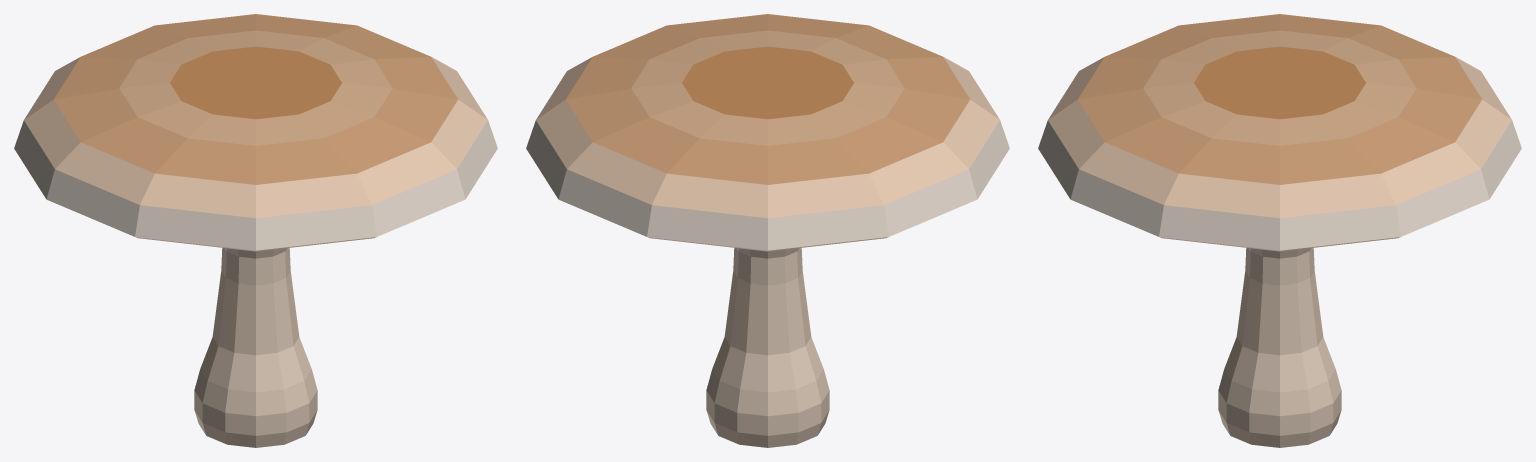
The model's file is mushroom2.fbx.
3 renders of one model, left to right at view 1: azimuth 30°, elevation 25°; view 2: azimuth 150°, elevation 25°; view 3: azimuth 270°, elevation 25°, orthographic.
Parts seen in each view (by area): view 1: Mushroom; view 2: Mushroom; view 3: Mushroom.
Part boxes in pixels (bbox=[...]): Mushroom: bbox=[14, 14, 497, 447]; Mushroom: bbox=[526, 14, 1009, 447]; Mushroom: bbox=[1038, 14, 1521, 447].
Size of the model in its own units: 68.2 by 54.46 by 68.2.
